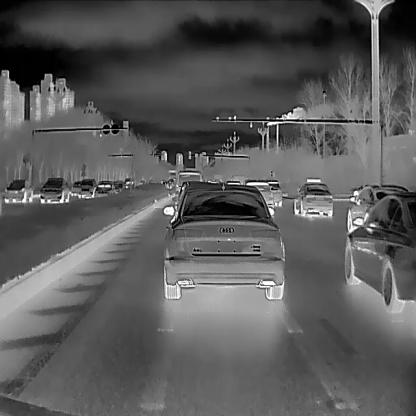car: (162, 182, 284, 299), (344, 193, 415, 312), (346, 181, 407, 243), (294, 176, 333, 217), (243, 180, 274, 218), (174, 168, 204, 204), (38, 176, 69, 205), (3, 179, 32, 204), (261, 178, 284, 206), (96, 180, 115, 198), (78, 178, 93, 197)
